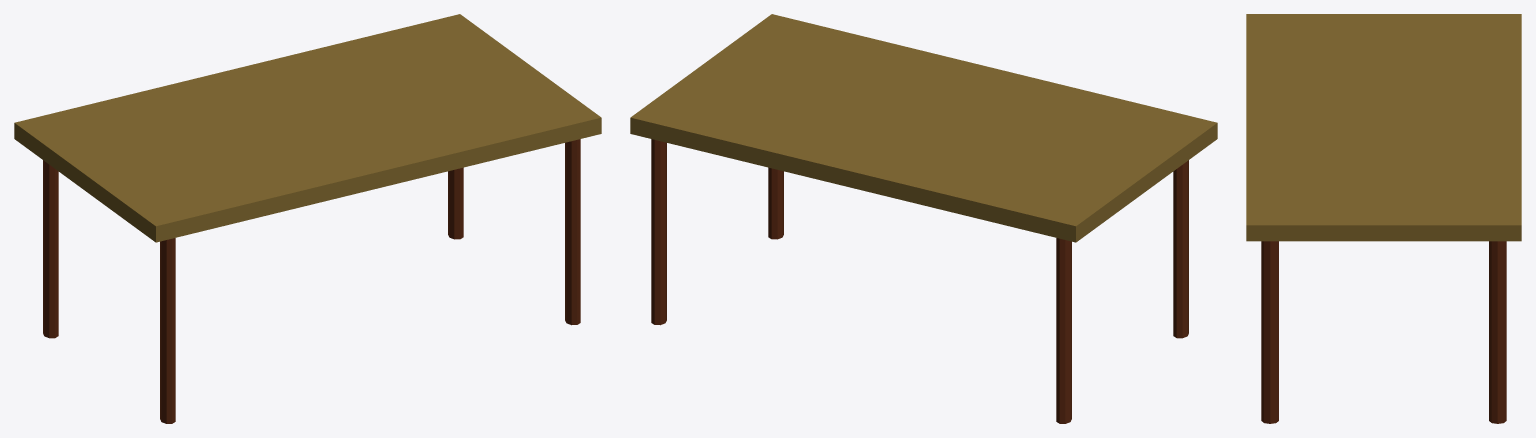
The model's file is Desk.fbx.
3 views of the same model, side by side, from view 1: azimuth 30°, elevation 25°; view 2: azimuth 150°, elevation 25°; view 3: azimuth 270°, elevation 25° (orthographic). The views are drawn at different scales.
Parts seen in each view (by area): view 1: Desk; view 2: Desk; view 3: Desk.
Boxes of the visible parts, x1,y1,x2,y2 form: Desk: [14, 14, 601, 423]; Desk: [630, 14, 1217, 423]; Desk: [1246, 14, 1521, 423].
Size of the model in its own units: 5720 by 2564 by 3146.
